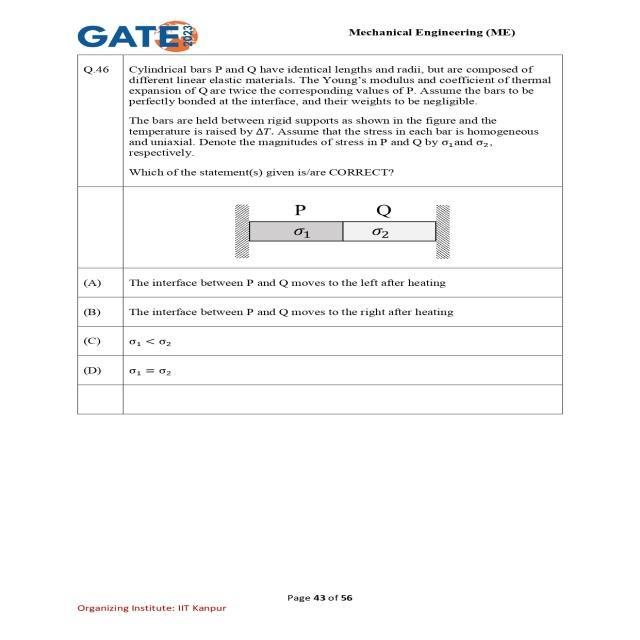Answer_Block: (75, 269, 560, 382)
Question_Answer_Block: (77, 56, 558, 382)
Question_Block: (79, 55, 562, 268)
Question_Paper_Area: (75, 52, 566, 413)
